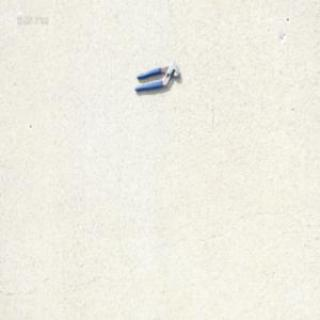Pliertrack_idkeyframe: (134, 61, 180, 92)
